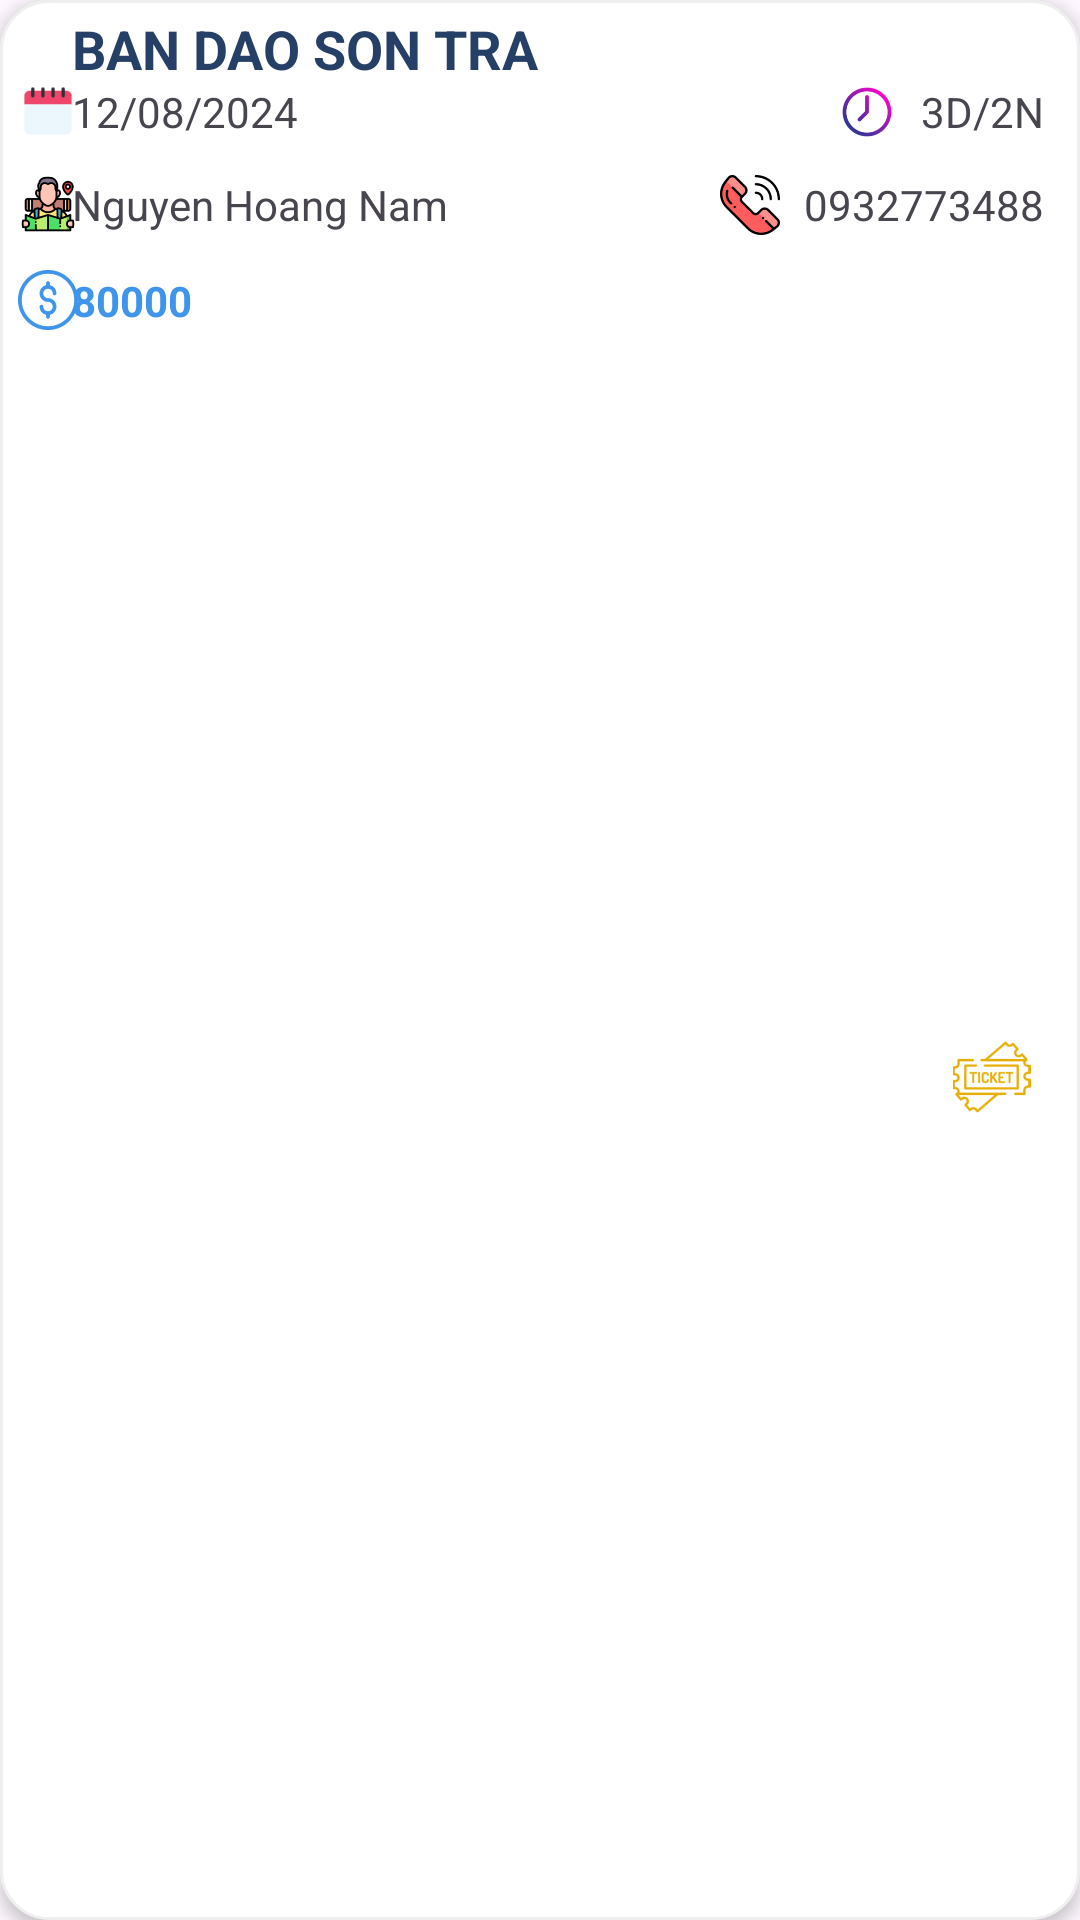

Where icons sit on this 1080w x 1920h app screen, as (x1=x1, y1=y1, x2=x2, y2=y2):
clock: (x1=842, y1=87, x2=892, y2=137)
dollar: (x1=18, y1=270, x2=78, y2=330)
telephone: (x1=720, y1=175, x2=780, y2=235)
tour guide: (x1=21, y1=176, x2=75, y2=232)
